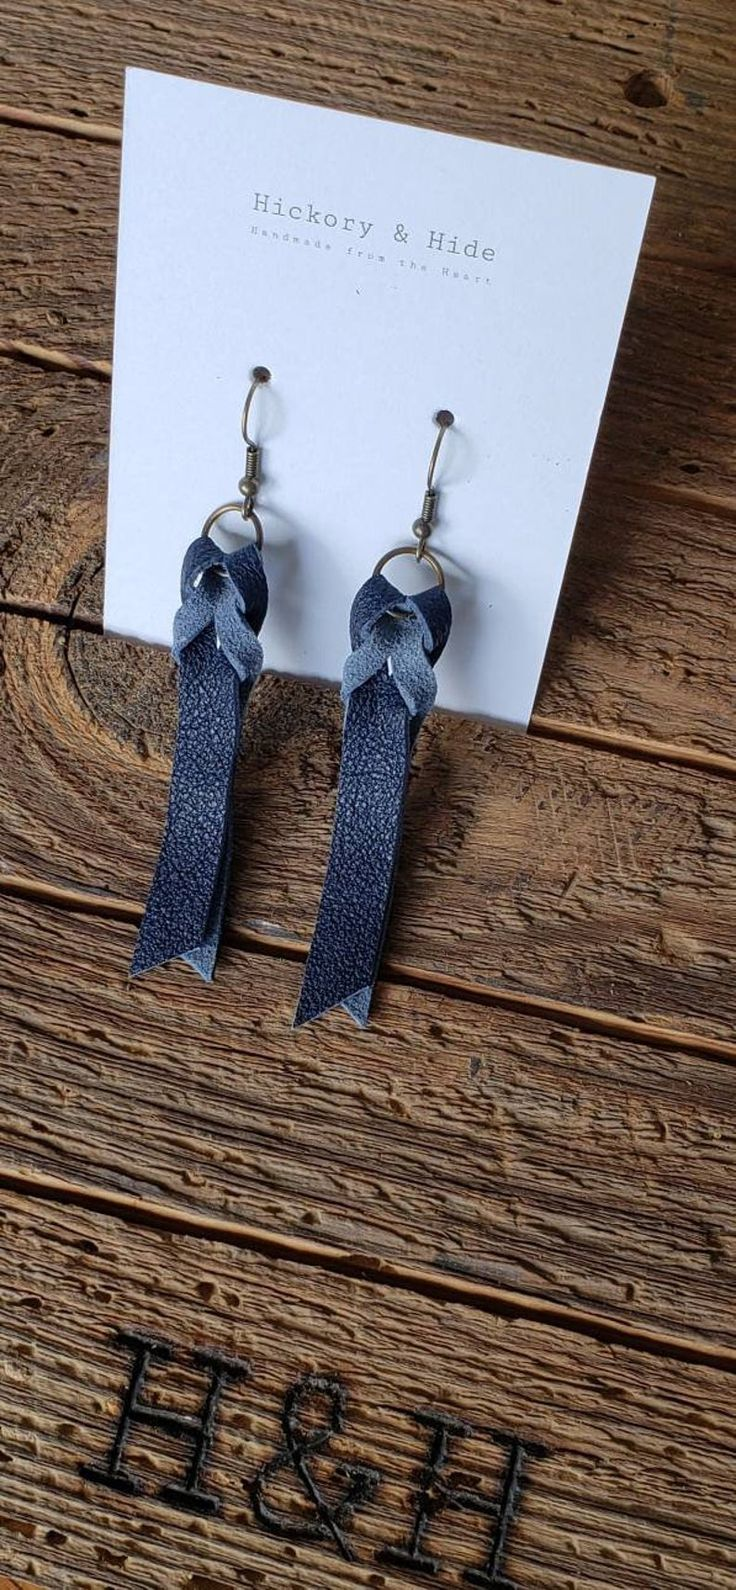cuero: (124, 538, 453, 1032)
